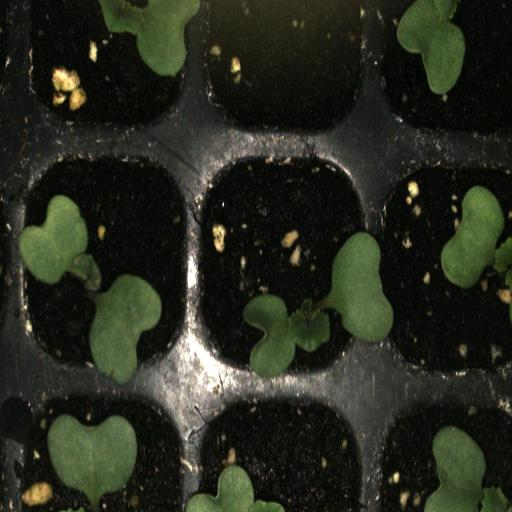noseedling: (205, 0, 371, 143)
seedling: (15, 150, 202, 380), (200, 146, 371, 368)
